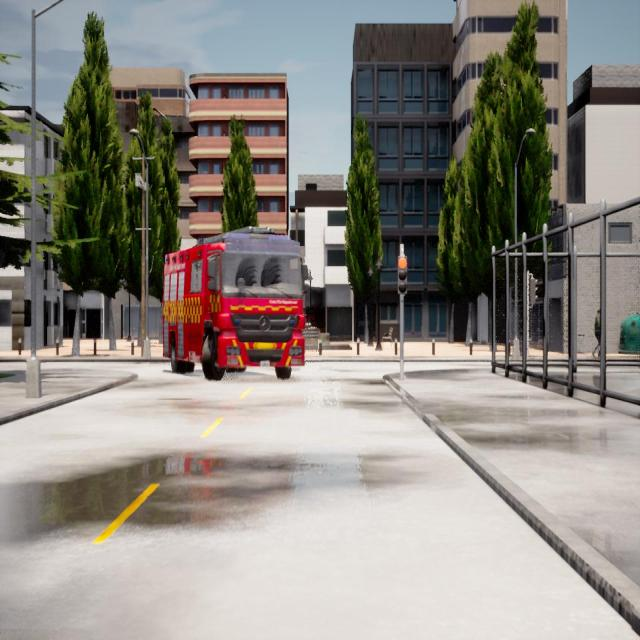Pedestrian: (593, 304, 601, 359)
Vehicle: (163, 231, 305, 380)
traffic_light: (398, 257, 408, 294), (530, 278, 538, 306)
